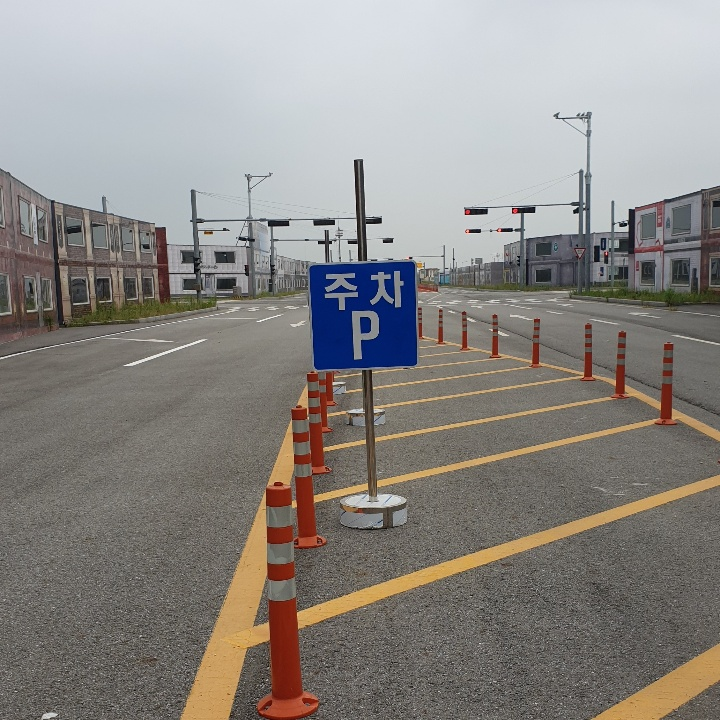parking: (341, 303, 387, 369)
